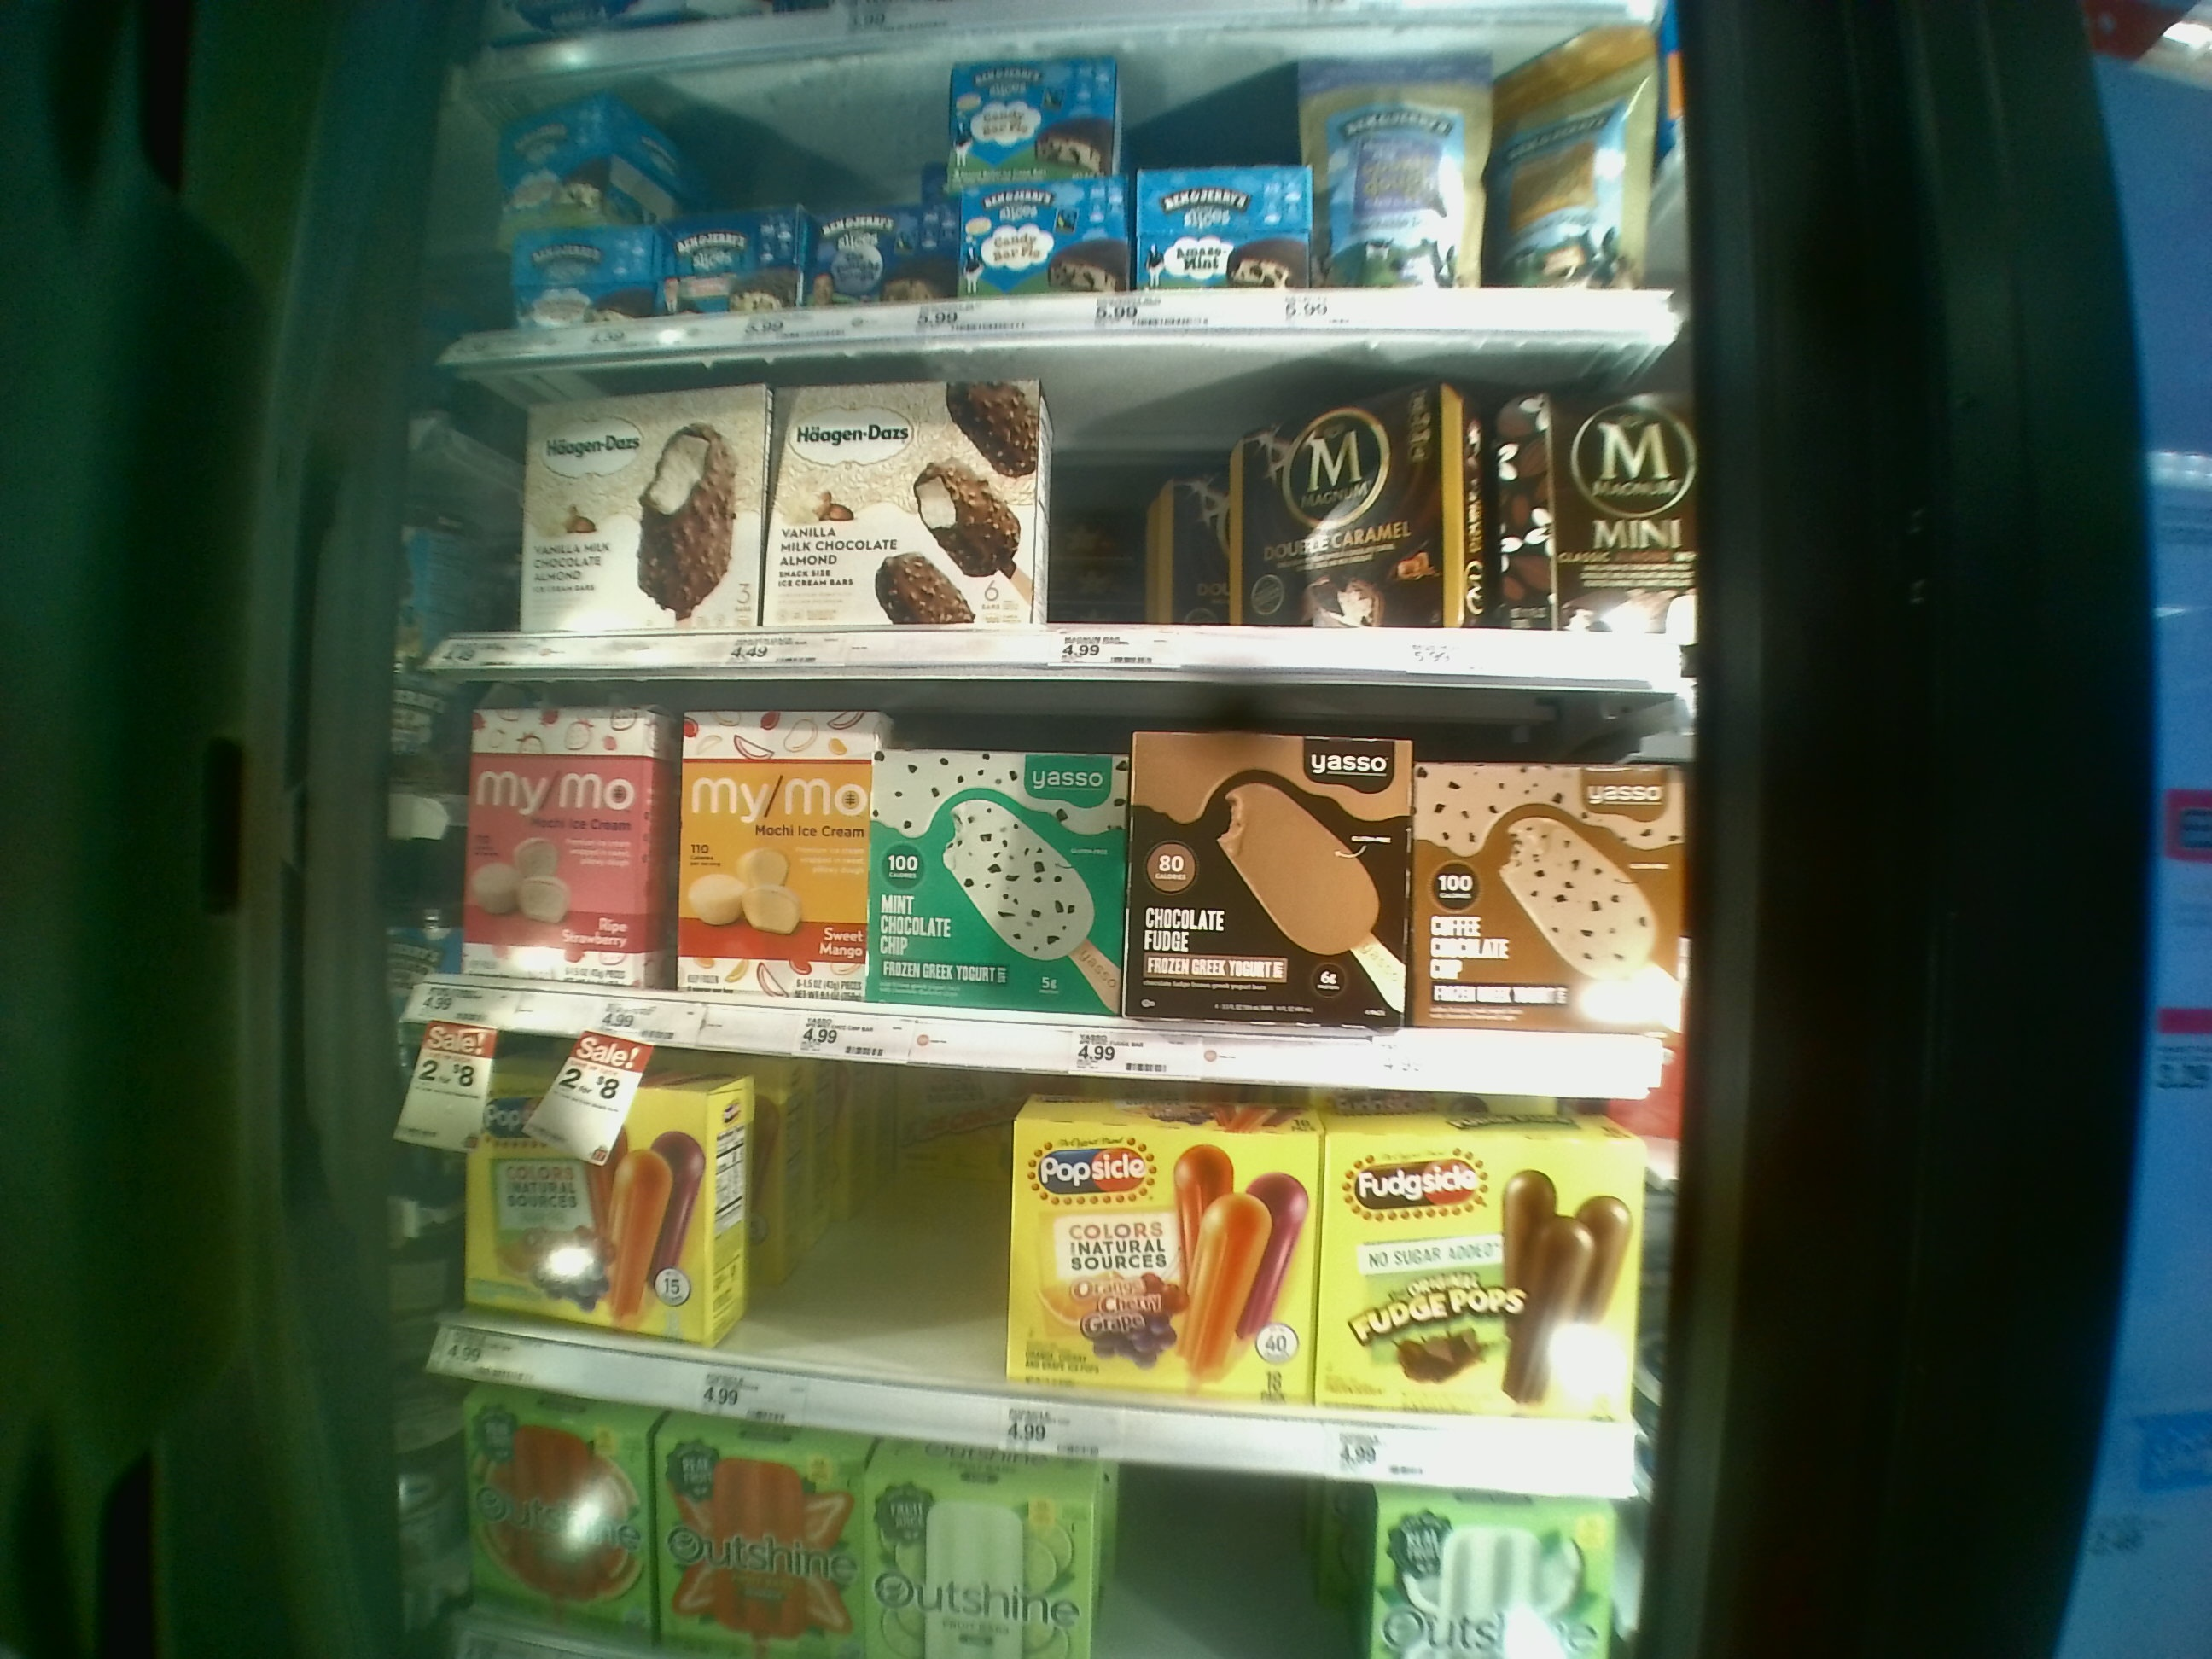shelf: (428, 678, 1679, 1094), (428, 368, 1674, 678)
